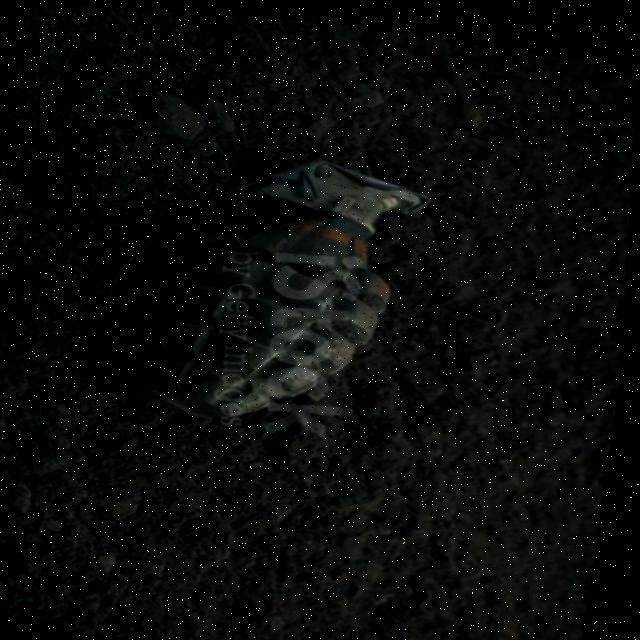grenade: (67, 115, 455, 464)
